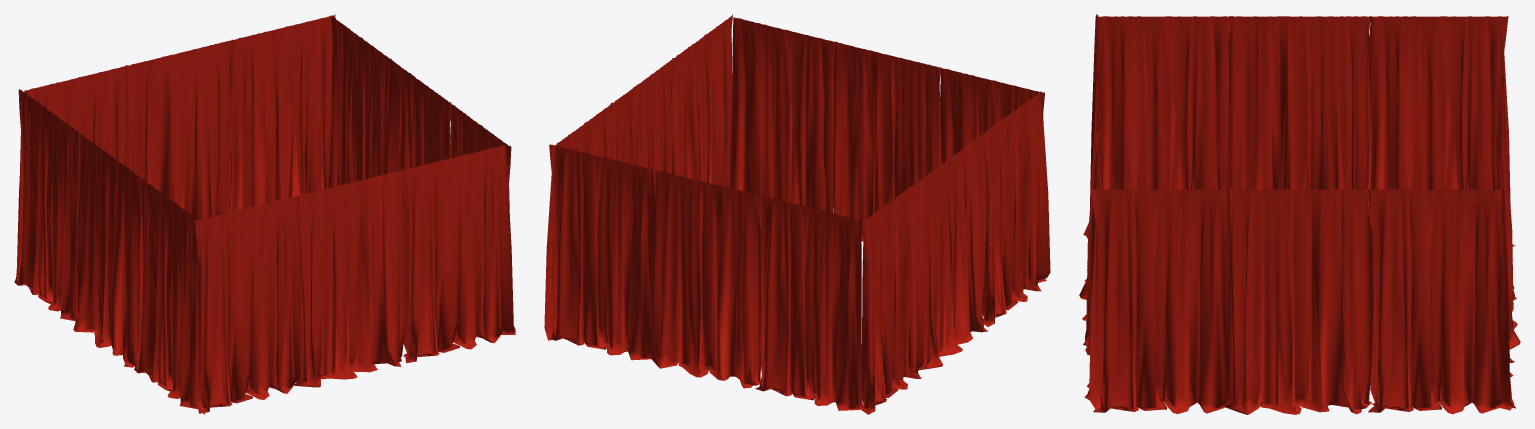
The model's file is Curtains.fbx.
3 renders of one model, left to right at view 1: azimuth 30°, elevation 25°; view 2: azimuth 150°, elevation 25°; view 3: azimuth 270°, elevation 25°, orthographic. The views are drawn at different scales.
Visible parts, largest first — view 1: curtain_R.003, curtain_L.006, curtain_L.007, curtain_L.001, curtain_R, curtain_R.002, curtain_L.004, curtain_L.005, curtain_L.002, curtain_R.001, curtain_L, curtain_L.003; view 2: curtain_R, curtain_L, curtain_L.001, curtain_L.006, curtain_R.003, curtain_L.005, curtain_L.004, curtain_R.002, curtain_L.003, curtain_R.001, curtain_L.007, curtain_L.002; view 3: curtain_R.001, curtain_L.003, curtain_L.002, curtain_R.002, curtain_L.004, curtain_L.005, curtain_R, curtain_L.006, curtain_R.003, curtain_L.001, curtain_L.007, curtain_L.
Part boxes in pixels (bbox=[...]): curtain_R.003: bbox=[293, 170, 407, 387]; curtain_L.006: bbox=[402, 145, 514, 363]; curtain_L.007: bbox=[195, 195, 307, 413]; curtain_L.001: bbox=[227, 14, 335, 212]; curtain_R: bbox=[125, 40, 233, 219]; curtain_R.002: bbox=[73, 133, 140, 367]; curtain_L.004: bbox=[134, 177, 205, 414]; curtain_L.005: bbox=[14, 89, 79, 320]; curtain_L.002: bbox=[328, 15, 391, 187]; curtain_R.001: bbox=[386, 59, 451, 173]; curtain_L: bbox=[16, 65, 128, 277]; curtain_L.003: bbox=[450, 103, 515, 335]; curtain_R: bbox=[650, 170, 761, 388]; curtain_L: bbox=[755, 195, 868, 411]; curtain_L.001: bbox=[549, 144, 659, 360]; curtain_L.006: bbox=[732, 17, 837, 212]; curtain_R.003: bbox=[833, 41, 941, 241]; curtain_L.005: bbox=[858, 179, 930, 414]; curtain_L.004: bbox=[982, 91, 1050, 326]; curtain_R.002: bbox=[918, 134, 987, 370]; curtain_L.003: bbox=[669, 14, 733, 188]; curtain_R.001: bbox=[610, 58, 674, 203]; curtain_L.007: bbox=[940, 68, 1046, 282]; curtain_L.002: bbox=[544, 103, 612, 340]; curtain_R.001: bbox=[1224, 189, 1373, 414]; curtain_L.003: bbox=[1091, 189, 1238, 414]; curtain_L.002: bbox=[1366, 189, 1516, 414]; curtain_R.002: bbox=[1228, 16, 1371, 208]; curtain_L.004: bbox=[1083, 16, 1233, 235]; curtain_L.005: bbox=[1366, 15, 1508, 189]; curtain_R: bbox=[1497, 75, 1520, 349]; curtain_L.006: bbox=[1084, 130, 1100, 412]; curtain_R.003: bbox=[1079, 72, 1101, 346]; curtain_L.001: bbox=[1495, 134, 1514, 410]; curtain_L.007: bbox=[1084, 14, 1103, 281]; curtain_L: bbox=[1496, 18, 1514, 289].
Bounding box in the file's own units: 2363 × 1283 × 2334.
1 material, 1 textured.
